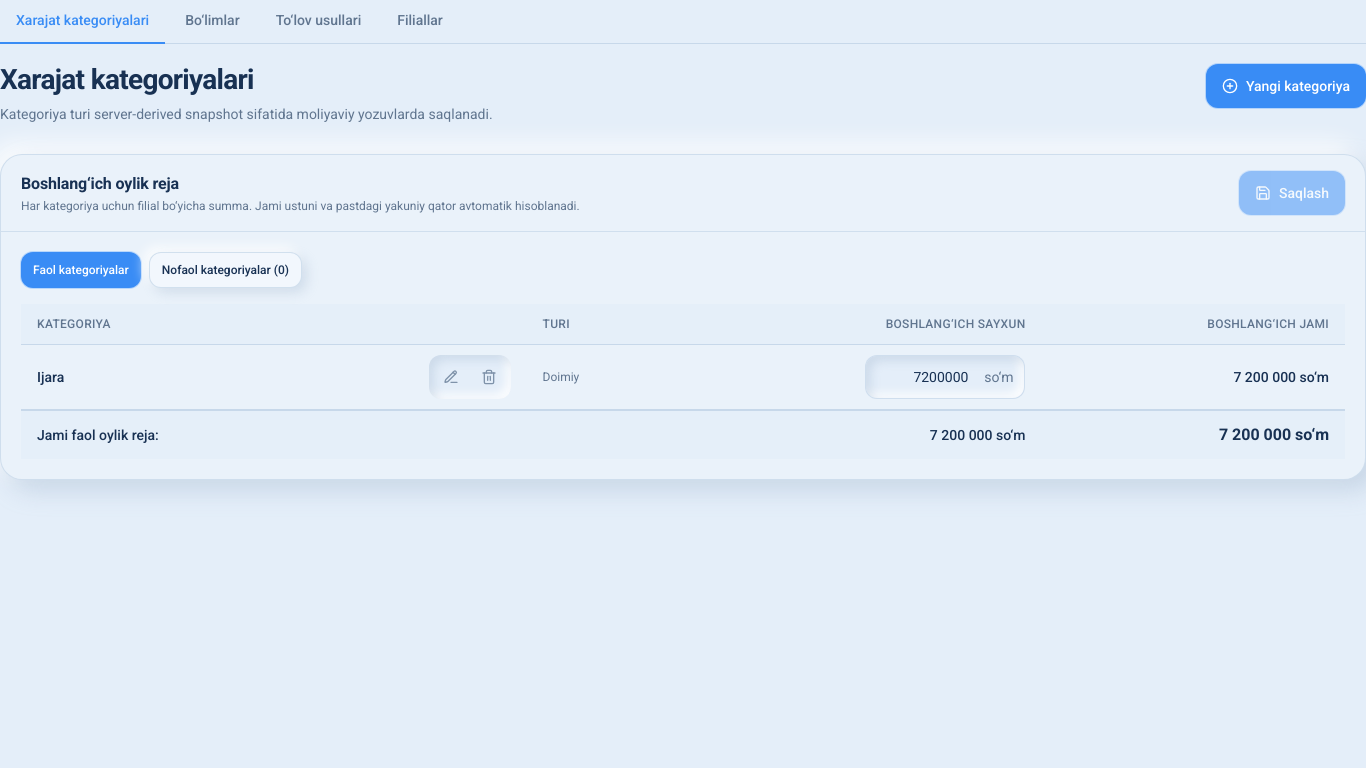
Test: Xarajat kategoriyalari boshqaruvi › tahrirlash xatosini ko‘rsatadi va kategoriyani o‘zgartirmaydi
The width and height of the screenshot is (1366, 768).
Click the button named "Ijara kategoriyasini tahrirlash": (450, 377) [432,359,468,395]
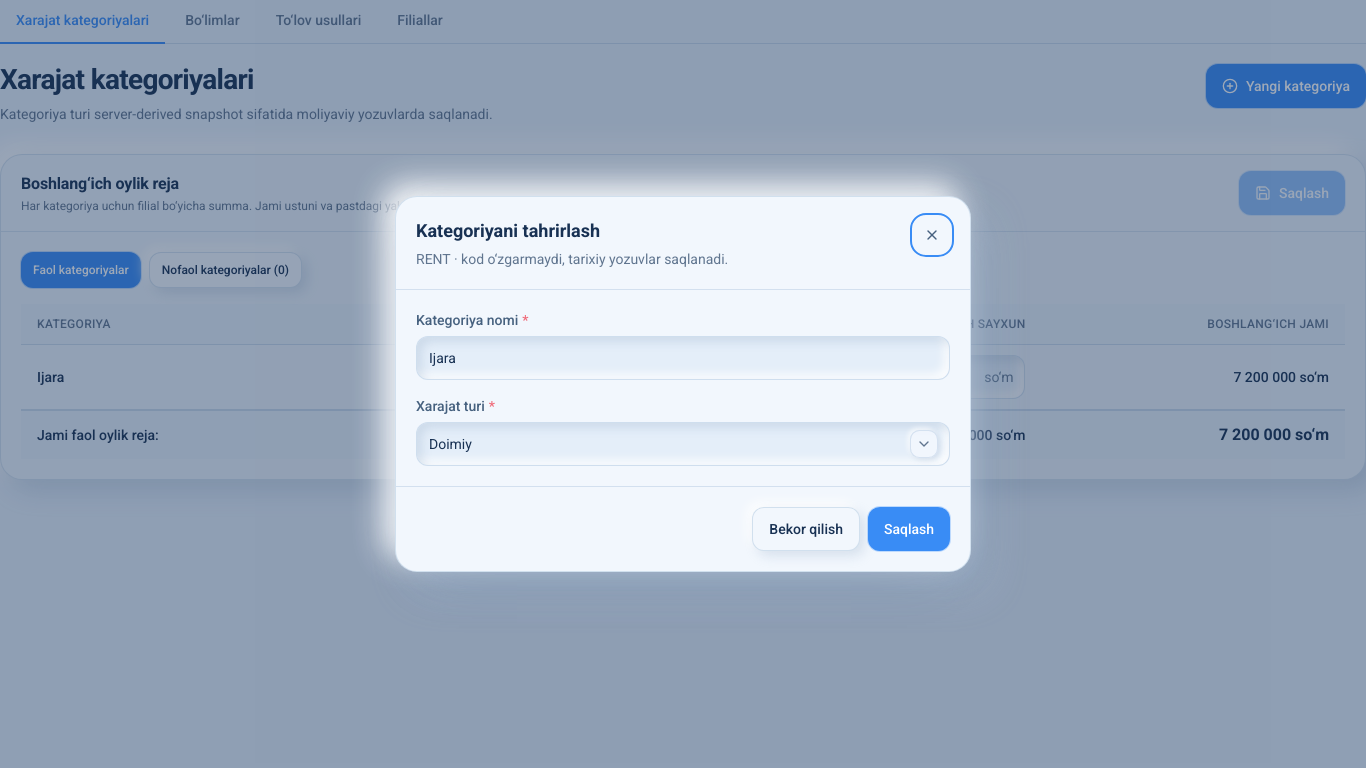
Replace the text in the field labelled "Kategoriya nomi*" with "Yangi ijara": (683, 358) [416,336,950,380]
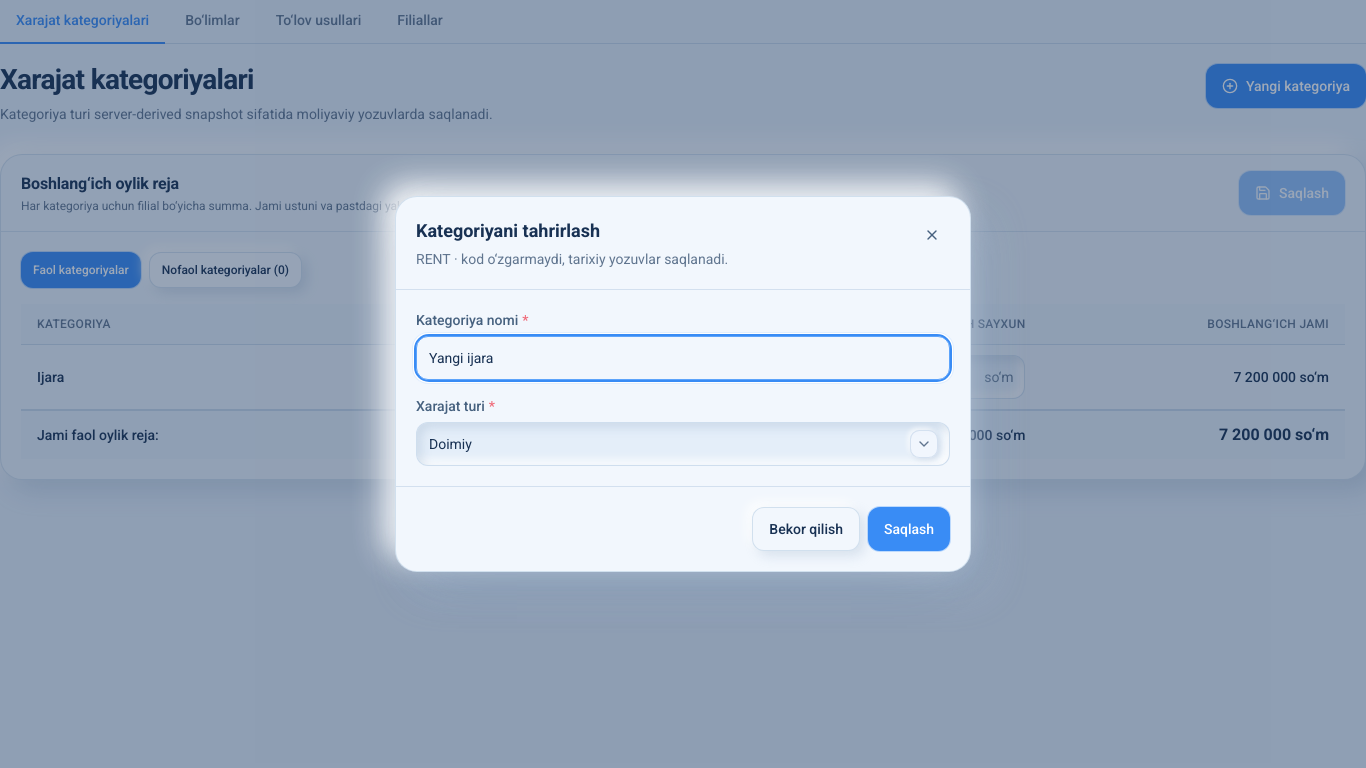
Click the button "Saqlash": (909, 529) [868,507,950,551]
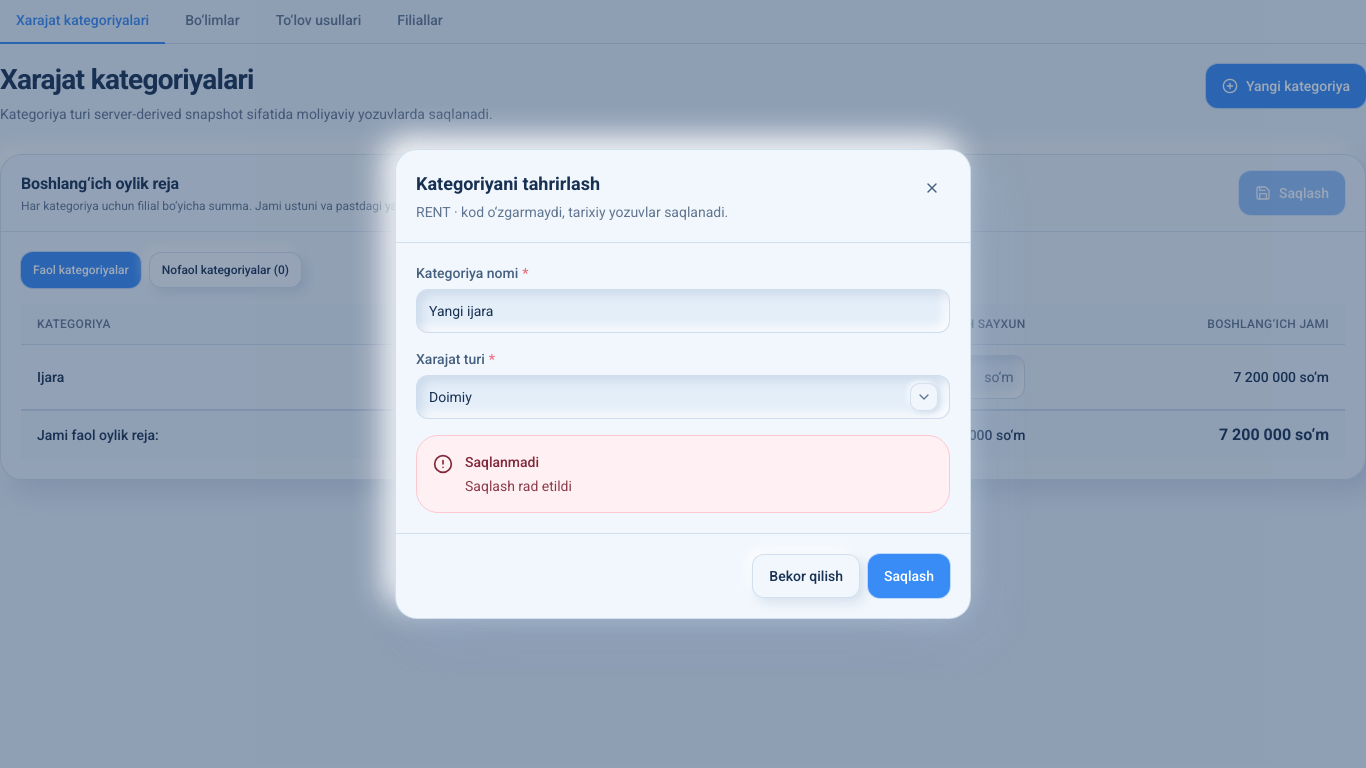
expect the text "Ijara" is shown: met, box [37,367,64,387]
expect the text "Saqlash rad etildi" is shown: met, box [465,476,572,496]
